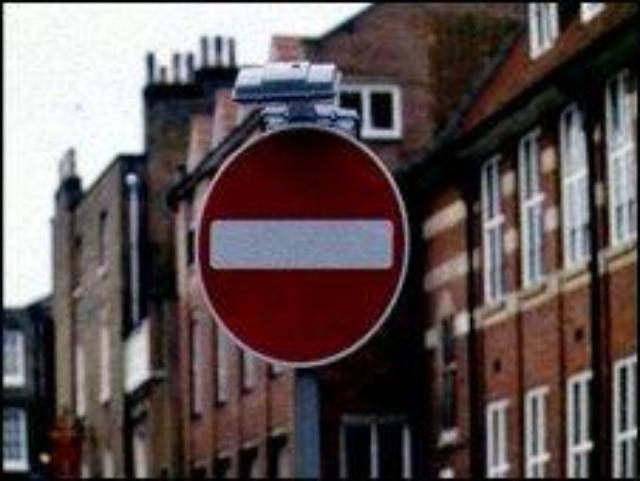B2: (187, 120, 413, 368)
